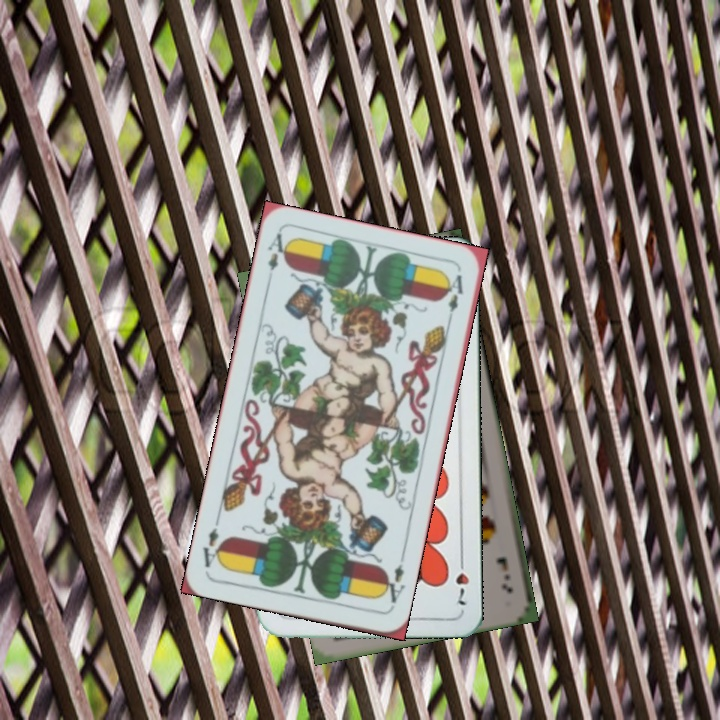E7: (492, 552, 516, 596)
EA: (377, 552, 407, 611), (263, 229, 291, 288)
H7: (452, 552, 472, 610)
